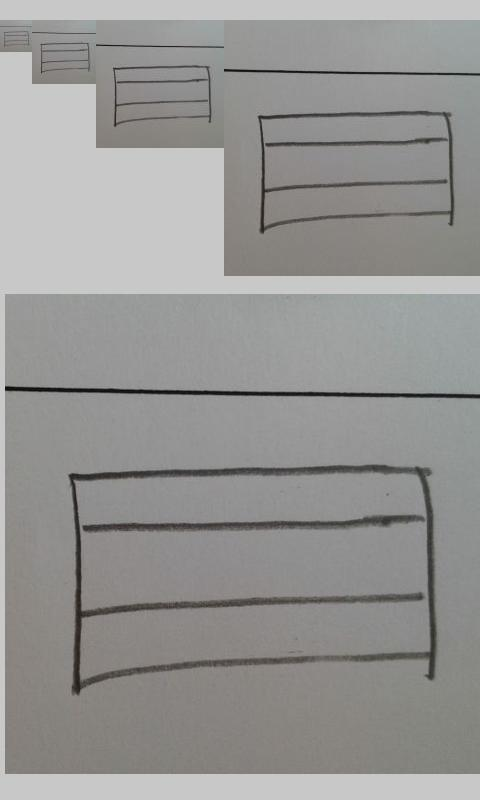list_view: (65, 464, 437, 692), (257, 110, 455, 234), (113, 64, 213, 126), (39, 42, 90, 73), (3, 30, 30, 47)
